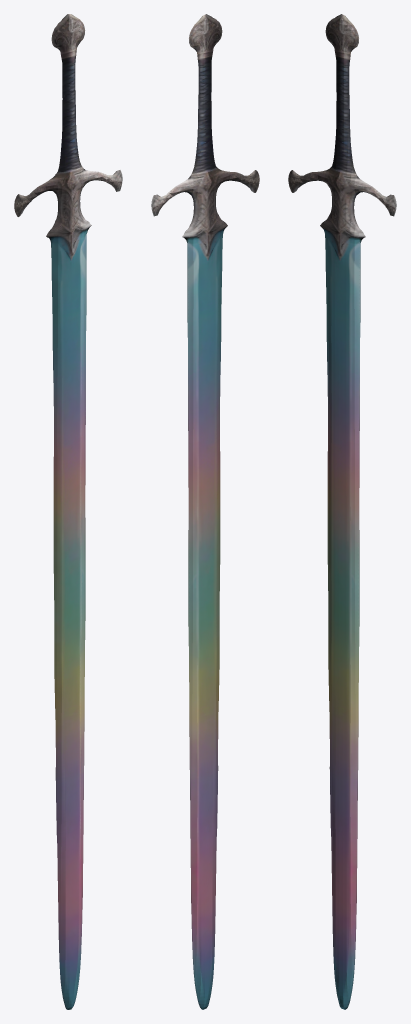
Rendered from pastelRainbow_sword.glb.
The picture shows the model from 3 angles, left to right: view 1: azimuth 30°, elevation 25°; view 2: azimuth 210°, elevation 25°; view 3: azimuth 330°, elevation 25°; orthographic projection.
Parts seen in each view (by area): view 1: Grid; view 2: Grid; view 3: Grid.
Part boxes in pixels (x1,y1,x2,y2): Grid: (14, 14, 122, 1009); Grid: (151, 14, 259, 1009); Grid: (288, 14, 396, 1009).
Size of the model in its own units: 0.4364 by 3.83 by 0.0421.
Materials: 1 (1 with a texture image).
